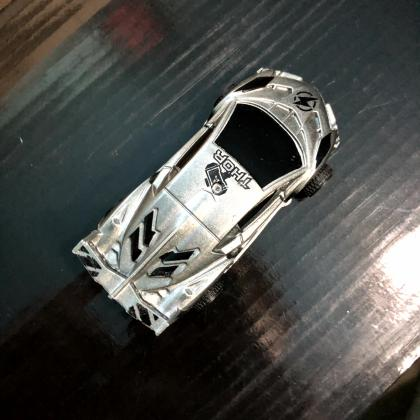Car: (73, 69, 341, 337)
